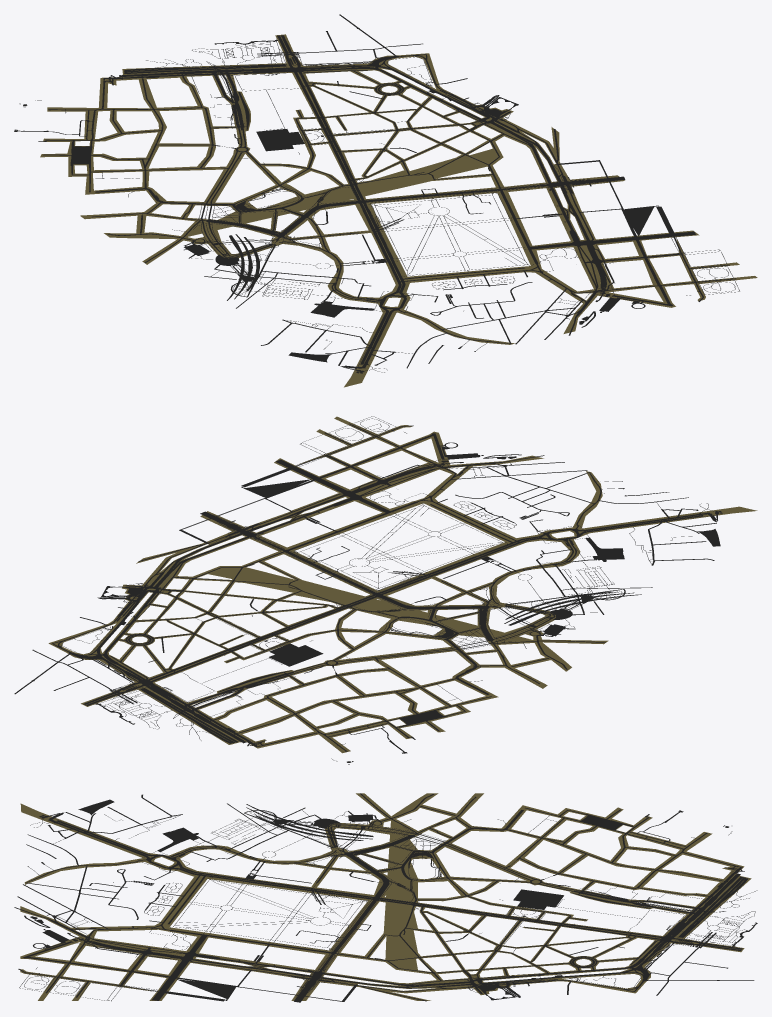
The model's file is map_redonev3_RoadOnly.obj.
3 renders of one model, top to bottom at view 1: azimuth 30°, elevation 25°; view 2: azimuth 150°, elevation 25°; view 3: azimuth 270°, elevation 25°, orthographic. The views are drawn at different scales.
Visible parts, largest first — view 1: road_Building_Tour_Finances_-_Financietoren.003, MainMap_Main_Building_Tour_Finances_-_Financietoren.000; view 2: road_Building_Tour_Finances_-_Financietoren.003, MainMap_Main_Building_Tour_Finances_-_Financietoren.000; view 3: road_Building_Tour_Finances_-_Financietoren.003, MainMap_Main_Building_Tour_Finances_-_Financietoren.000.
Boxes of the visible parts, box(x1,y1,x2,y2) form: road_Building_Tour_Finances_-_Financietoren.003: box(14, 14, 739, 373); MainMap_Main_Building_Tour_Finances_-_Financietoren.000: box(40, 34, 757, 387); road_Building_Tour_Finances_-_Financietoren.003: box(14, 416, 722, 764); MainMap_Main_Building_Tour_Finances_-_Financietoren.000: box(48, 416, 757, 753); road_Building_Tour_Finances_-_Financietoren.003: box(14, 793, 757, 1002); MainMap_Main_Building_Tour_Finances_-_Financietoren.000: box(20, 793, 751, 1000).
Bounding box in the file's own units: 26.11 × 0.00123 × 39.21.
